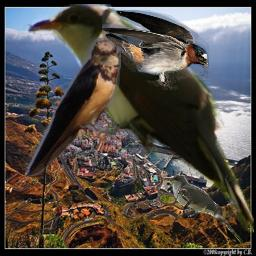Cuckoo: (23, 4, 254, 233), (163, 175, 243, 244)
Swallow: (25, 38, 121, 181), (102, 10, 209, 90)
